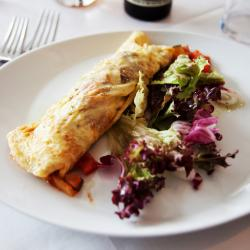omelette: (22, 38, 164, 171)
salad: (132, 94, 213, 193)
